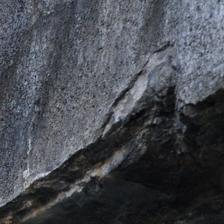Crack: (49, 19, 133, 130)
